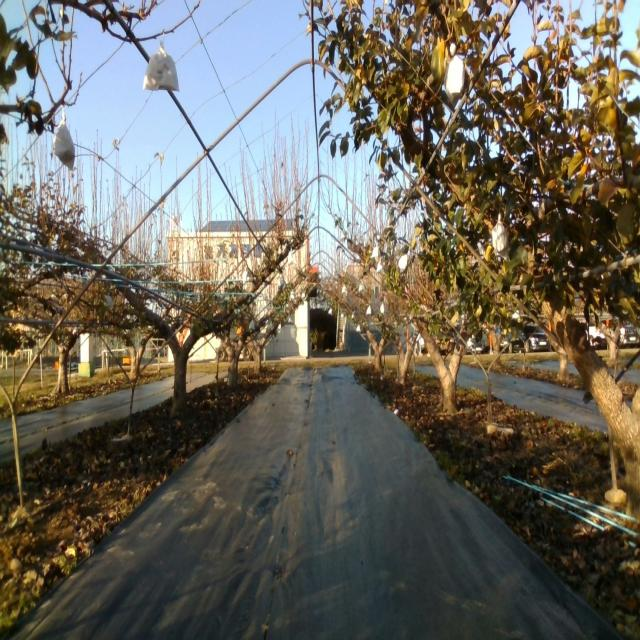pearbags: (142, 39, 182, 98), (52, 111, 75, 170), (443, 54, 465, 105), (491, 218, 509, 262)
